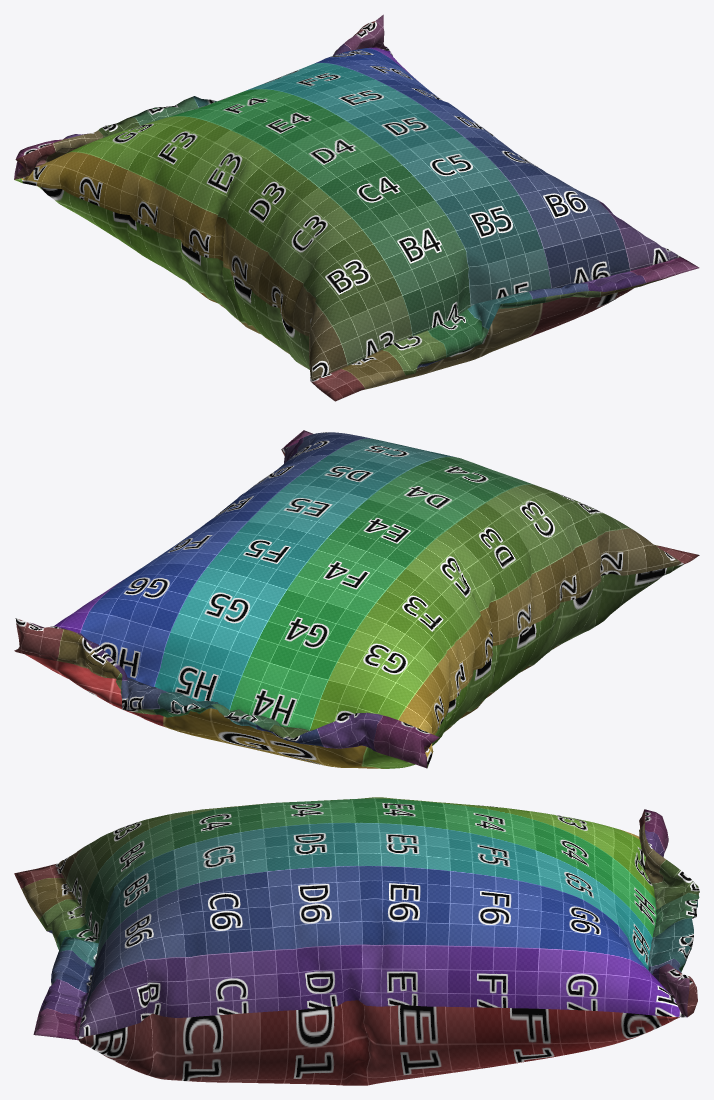
Rendered from pack.obj.
3 renders of one model, top to bottom at view 1: azimuth 30°, elevation 25°; view 2: azimuth 150°, elevation 25°; view 3: azimuth 270°, elevation 25°, orthographic. The views are drawn at different scales.
Bounding box in the file's own units: 1.02 × 0.4949 × 1.33.
3 materials, 3 textured.
